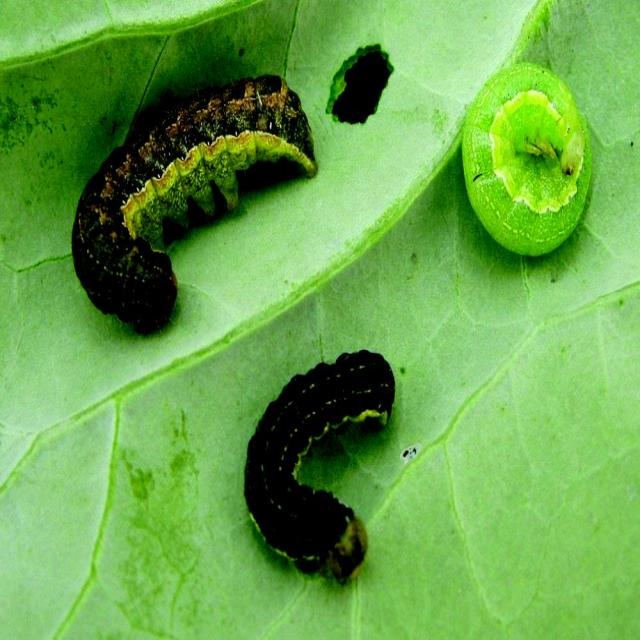armyworm: (78, 65, 320, 320)
